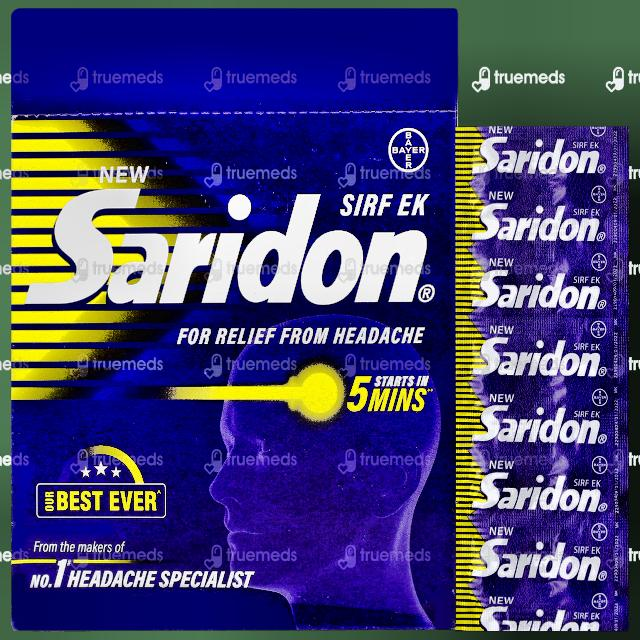Saridon: (14, 117, 626, 632)
